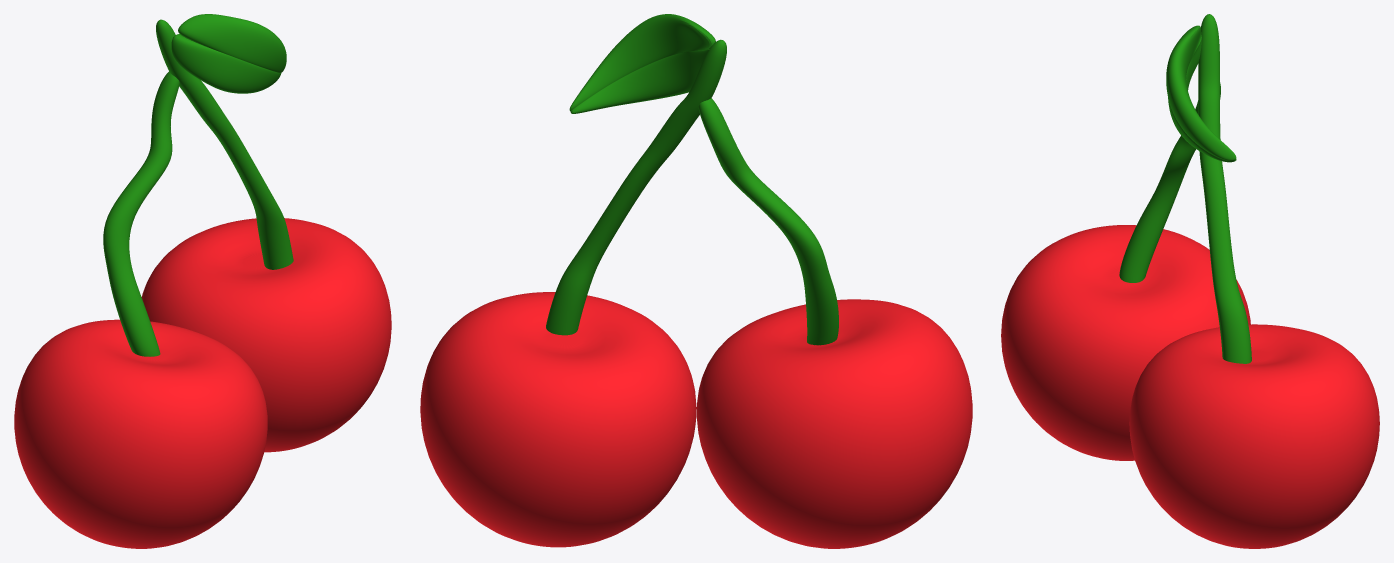
Rendered from Cherry.glb.
The picture shows the model from 3 angles, left to right: view 1: azimuth 30°, elevation 25°; view 2: azimuth 150°, elevation 25°; view 3: azimuth 270°, elevation 25°; orthographic projection. The views are drawn at different scales.
Visible parts, largest first — view 1: Sphere.001, Sphere.005, Cube.033, Cube.002; view 2: Sphere.005, Sphere.001, Cube.033, Cube.002; view 3: Sphere.005, Sphere.001, Cube.033, Cube.002.
Part boxes in pixels (<box>): Sphere.001: <box>14,319,267,548</box>; Sphere.005: <box>141,218,391,452</box>; Cube.033: <box>103,19,293,356</box>; Cube.002: <box>171,14,286,93</box>; Sphere.005: <box>420,292,696,547</box>; Sphere.001: <box>696,299,972,548</box>; Cube.033: <box>546,39,838,345</box>; Cube.002: <box>569,14,715,113</box>; Sphere.005: <box>1129,324,1379,548</box>; Sphere.001: <box>1001,225,1250,460</box>; Cube.033: <box>1119,14,1251,363</box>; Cube.002: <box>1166,25,1236,162</box>.
Bounding box in the file's own units: 3.67 × 4.07 × 2.99.
